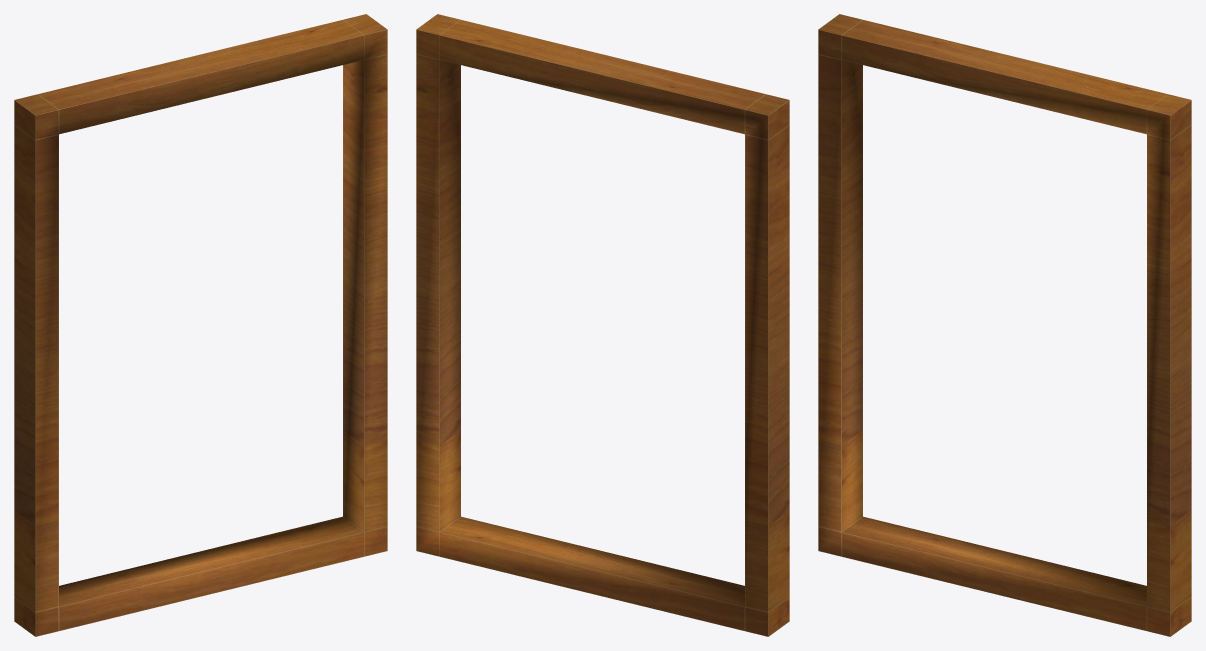
File: chairFrame.obj
3 views of the same model, side by side, from view 1: azimuth 30°, elevation 25°; view 2: azimuth 150°, elevation 25°; view 3: azimuth 330°, elevation 25° (orthographic).
Visible parts, largest first — view 1: pCube1; view 2: pCube1; view 3: pCube1.
Part boxes in pixels (<box>): pCube1: <box>14,14,387,636</box>; pCube1: <box>416,14,789,636</box>; pCube1: <box>818,14,1191,636</box>.
Bounding box in the file's own units: 1.56 × 2.21 × 0.1637.
Materials: 1 (1 with a texture image).
